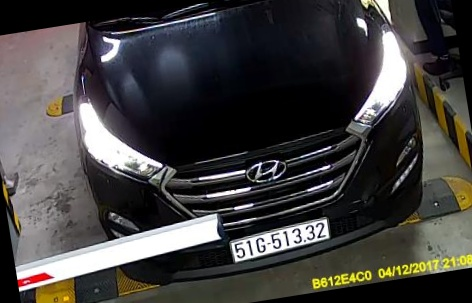plate: (226, 217, 338, 266)
